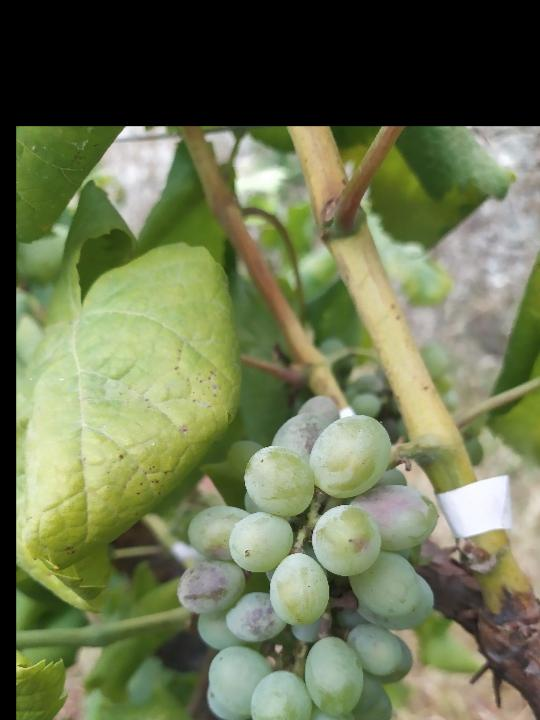grape: (174, 391, 442, 720)
